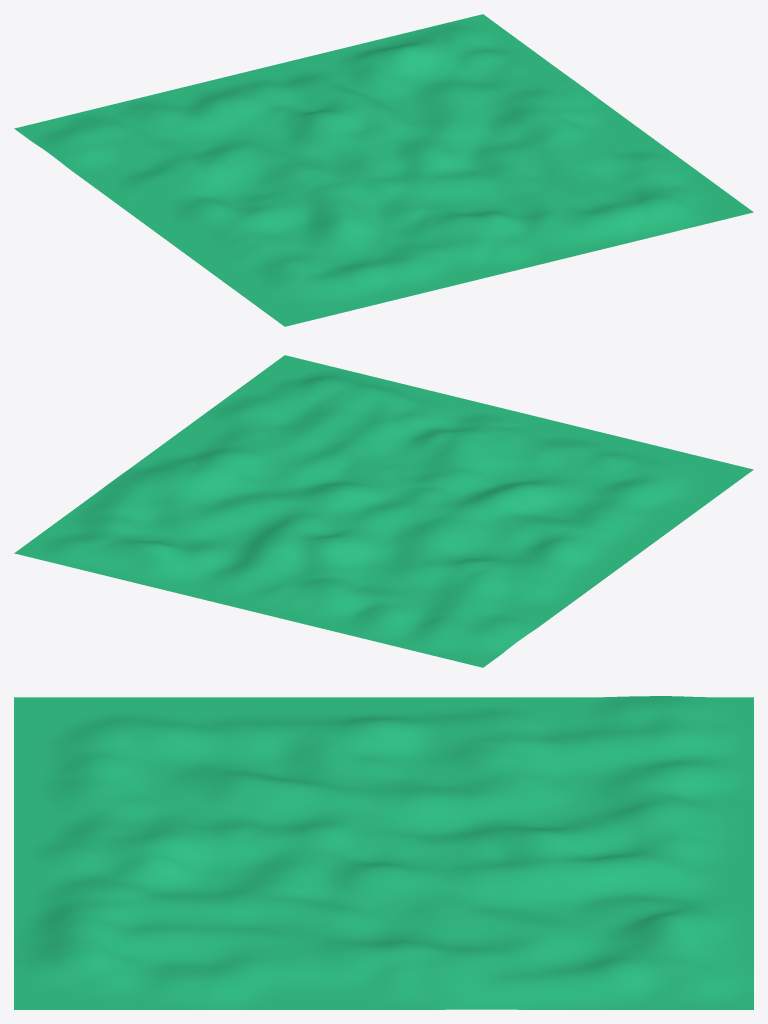
Rendered from terrain.glb.
3 views of the same model, one above another, from view 1: azimuth 30°, elevation 25°; view 2: azimuth 150°, elevation 25°; view 3: azimuth 270°, elevation 25° (orthographic). The views are drawn at different scales.
Parts seen in each view (by area): view 1: Plane001; view 2: Plane001; view 3: Plane001.
Boxes of the visible parts, x1,y1,x2,y2 form: Plane001: [14, 14, 753, 326]; Plane001: [14, 355, 753, 667]; Plane001: [14, 696, 753, 1009].
Bounding box in the file's own units: 2 × 0.0517 × 2.
